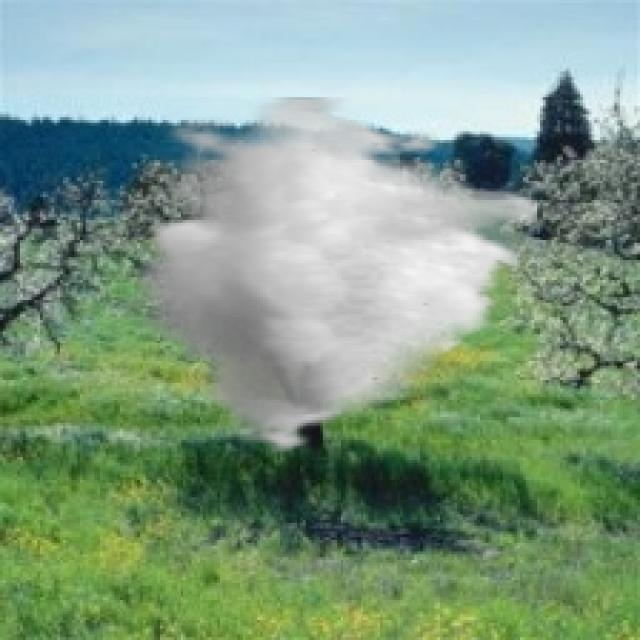smoke: (131, 97, 540, 460)
